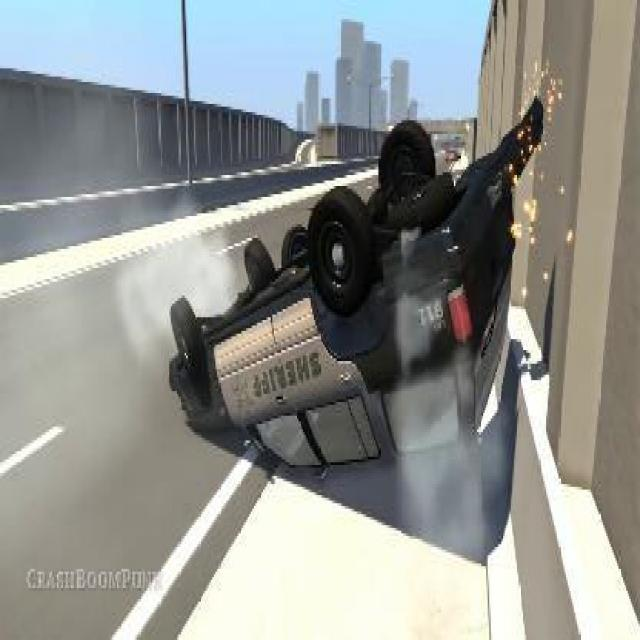accident: (152, 100, 516, 485)
